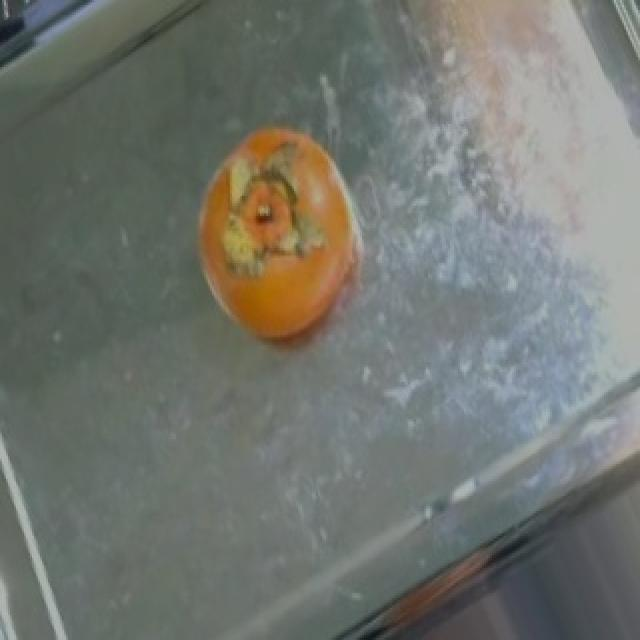Fruit: (180, 107, 386, 387)
